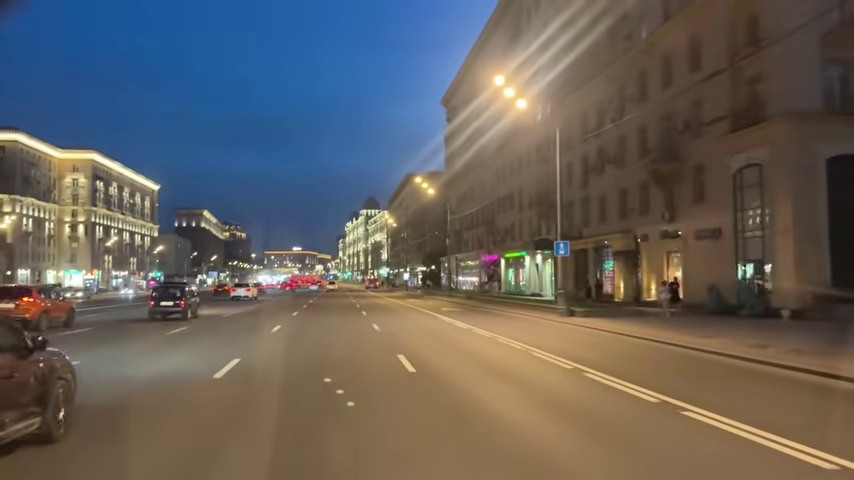acesa: (488, 70, 530, 114), (490, 71, 514, 96), (414, 176, 438, 200)
